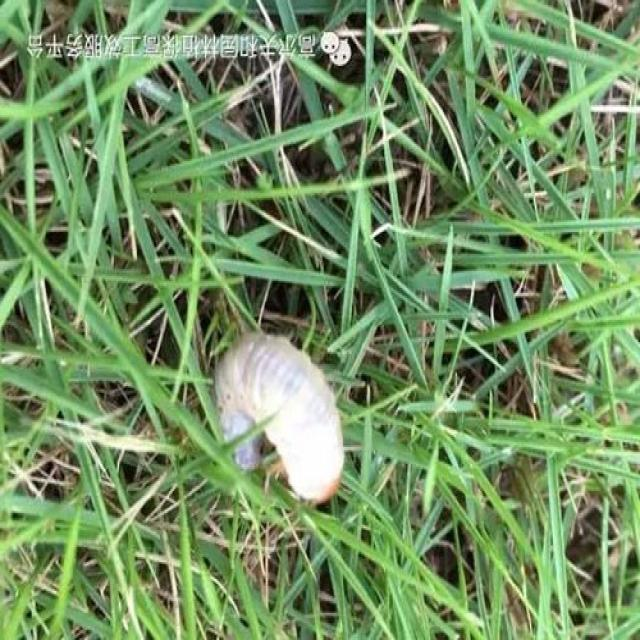grub: (211, 338, 349, 507)
